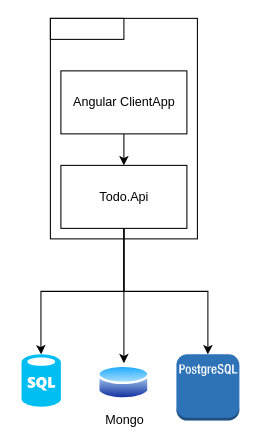
Image size: 258x447. Some labels were removed from this diagram. The centre of each missing label's shape, as x and y in pixels:
MS SQL: [40,380]
Todo.Host: [86,28]
